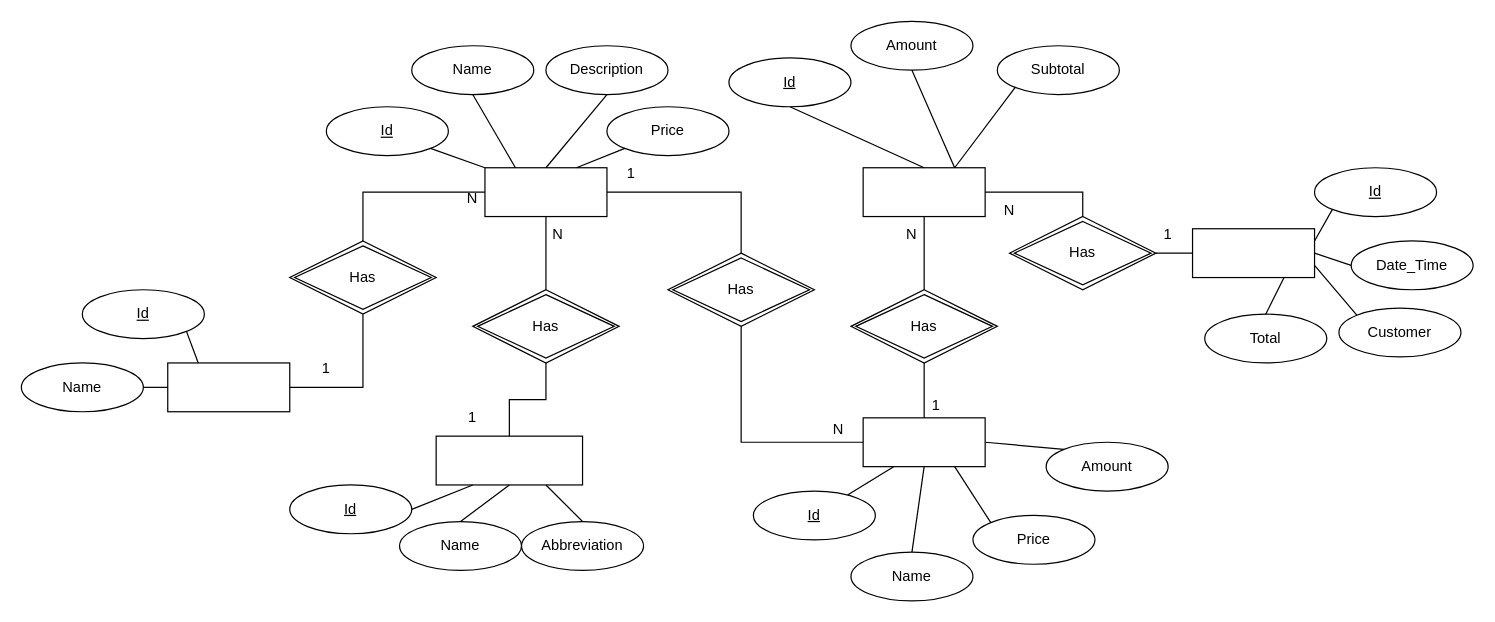
The diagram is 1495 pixels wide and 622 high, and some of its shapes have lost their labels. Here are the shapes that lost their labels. From the top down, the centre of each, then its label:
At point 545,192: "Products".
At point 923,192: "Sale_Details".
At point 1253,253: "Sale".
At point 228,387: "Categories".
At point 509,460: "Measurement_Units".
At point 923,442: "Inventories".
